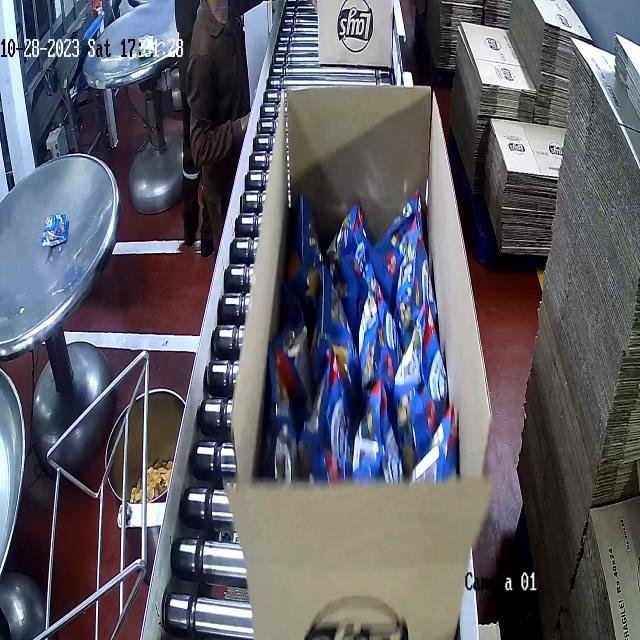PAPRIKA: (279, 169, 465, 486)
